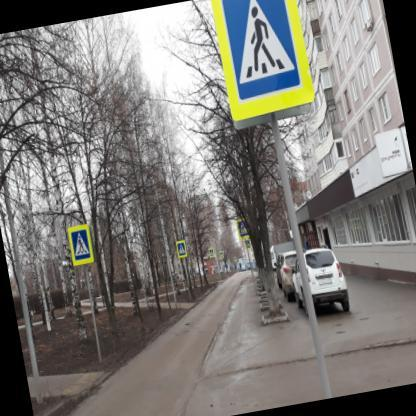obstructed_road_sign: (237, 220, 250, 239)
road_sign: (211, 0, 314, 124), (67, 225, 94, 266), (176, 240, 187, 258)
